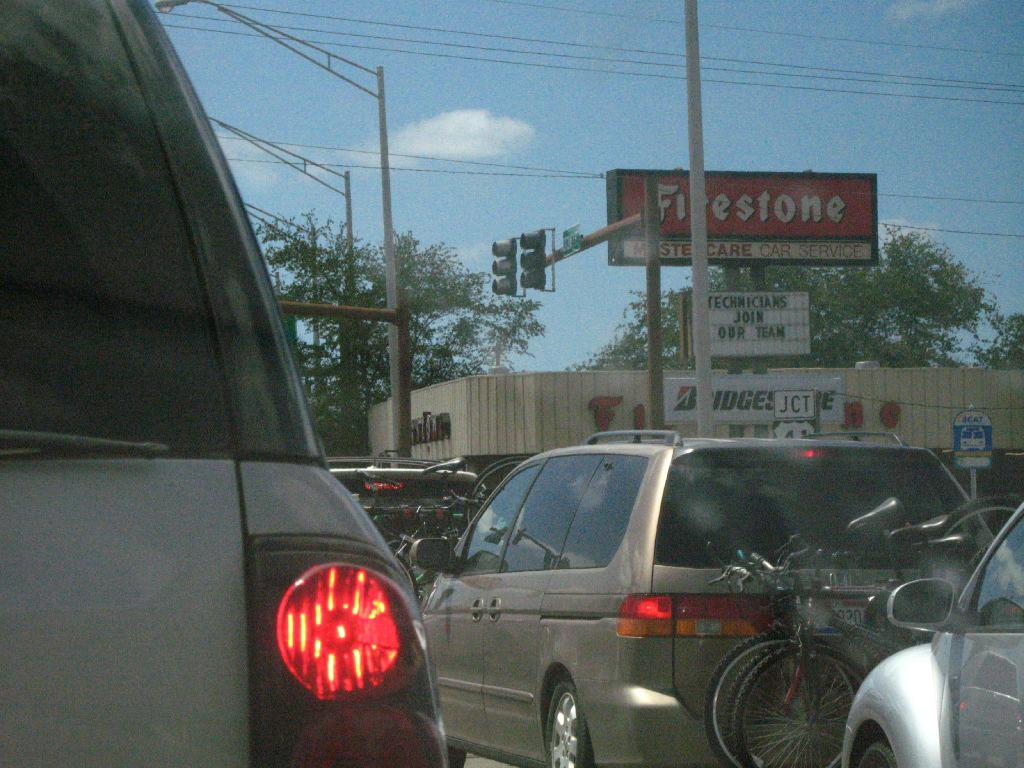Car: (0, 0, 453, 767), (377, 433, 971, 768), (840, 501, 1023, 766)
